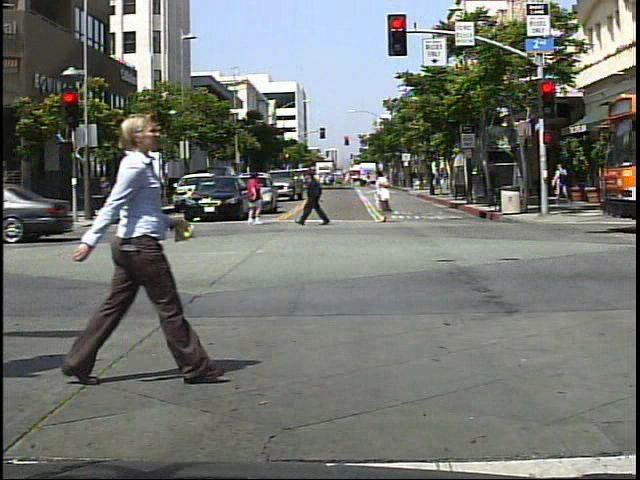person: (54, 92, 211, 403), (300, 158, 336, 232), (235, 167, 268, 226), (370, 165, 400, 227), (553, 160, 573, 204)
